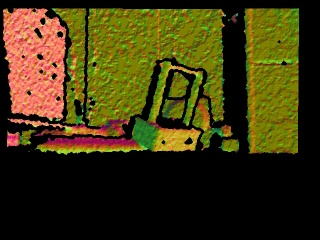station: (131, 59, 204, 153)
